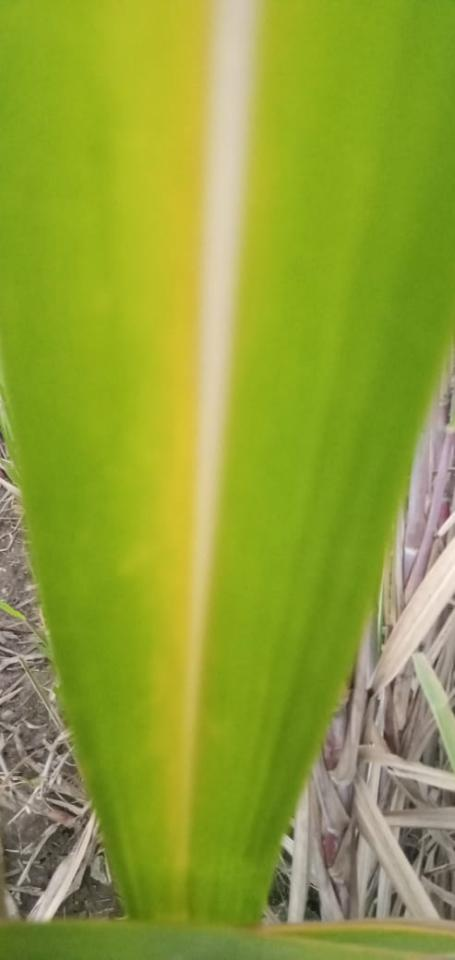Yellow: (149, 0, 219, 898)
